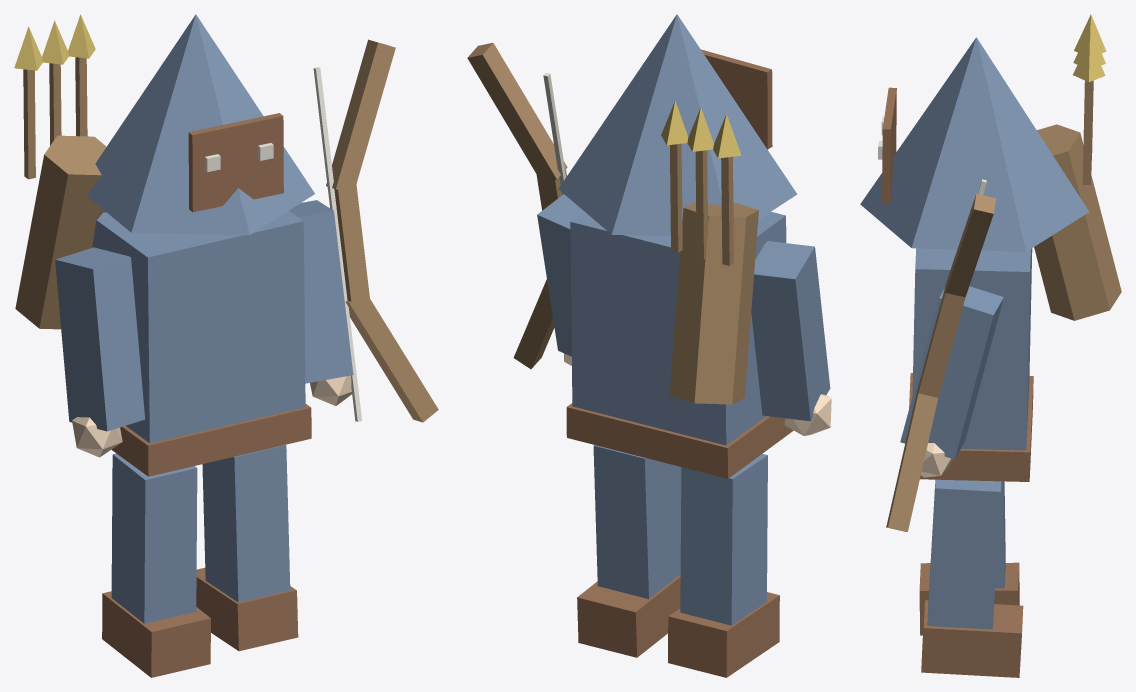
The model's file is npcpose_archer_idle_08.glb.
3 renders of one model, left to right at view 1: azimuth 30°, elevation 25°; view 2: azimuth 150°, elevation 25°; view 3: azimuth 270°, elevation 25°, orthographic. The views are drawn at different scales.
Visible parts, largest first — view 1: npcpose; view 2: npcpose; view 3: npcpose.
Boxes of the visible parts, <box> form: npcpose: <box>14,14,438,677</box>; npcpose: <box>467,14,831,677</box>; npcpose: <box>860,14,1121,677</box>.
Bounding box in the file's own units: 0.9113 × 1.63 × 0.6376.
